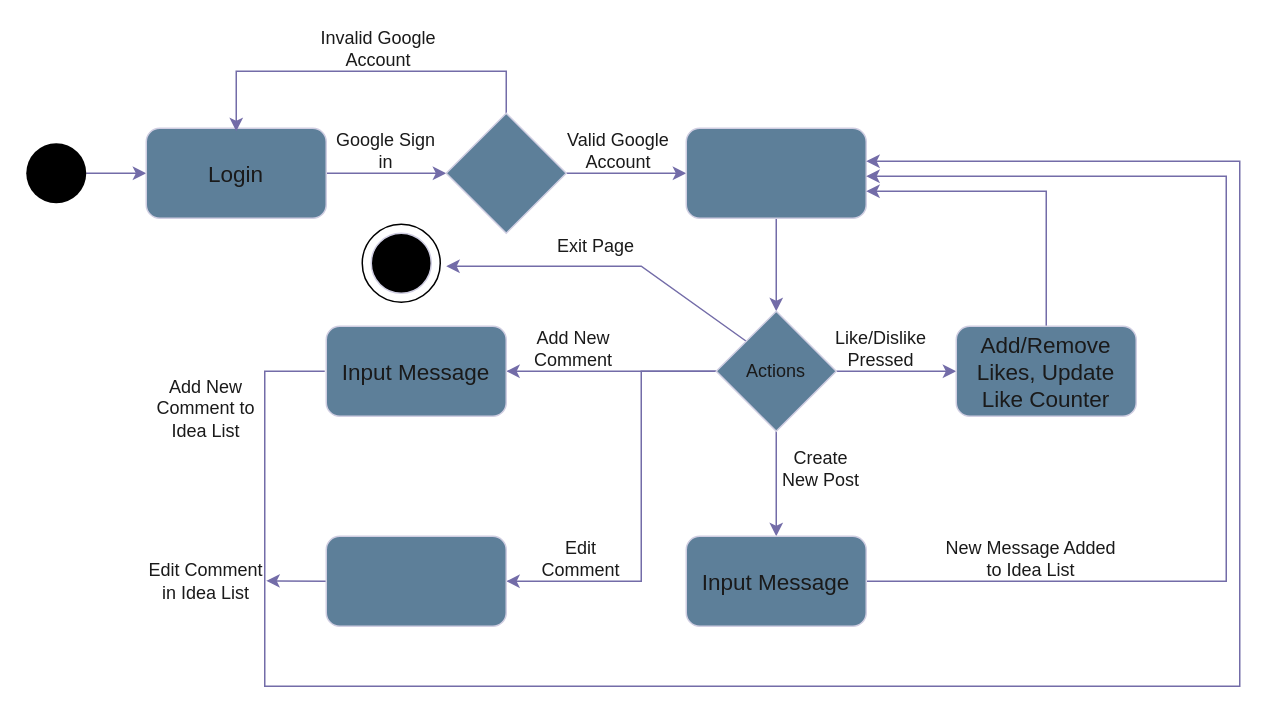
Some shapes in this 1278 by 725 pixel diagram are drawn without their labels. Each missing label, with the box of its shape:
Credentials Valid?: (445, 112, 566, 233)
Input Edited Comment Message: (325, 535, 506, 626)
View Ideas: (685, 127, 866, 218)
